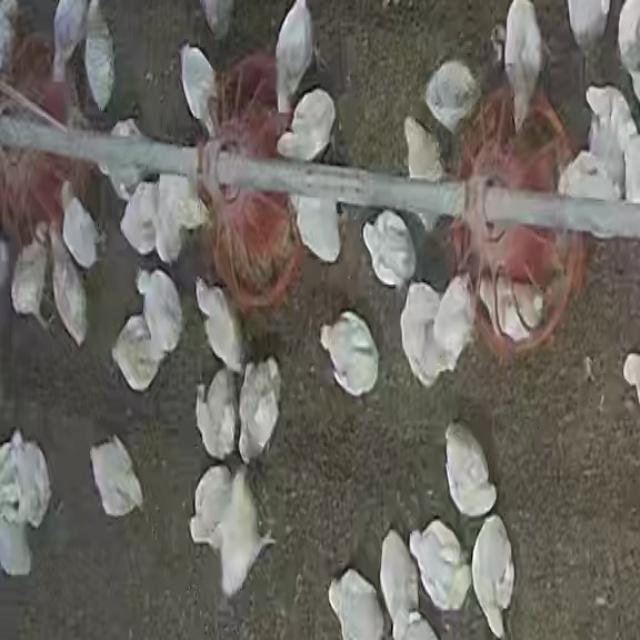chicken: (219, 463, 269, 595), (472, 517, 516, 640), (409, 524, 473, 608), (504, 0, 544, 134), (318, 315, 383, 394), (50, 224, 93, 343), (404, 280, 452, 385), (193, 273, 241, 368), (180, 42, 223, 147), (286, 179, 340, 261), (445, 426, 494, 516), (278, 0, 316, 116), (10, 432, 56, 527), (481, 271, 544, 339), (326, 576, 392, 640), (53, 179, 102, 265), (422, 58, 483, 125), (89, 437, 142, 513), (134, 269, 185, 347), (435, 272, 476, 368), (82, 0, 119, 106), (12, 221, 50, 323), (281, 91, 333, 165), (361, 214, 416, 282), (239, 359, 276, 459), (114, 317, 166, 388), (190, 467, 230, 557), (194, 375, 236, 460), (121, 179, 163, 258), (401, 120, 445, 195), (380, 533, 416, 620), (49, 2, 84, 89)
